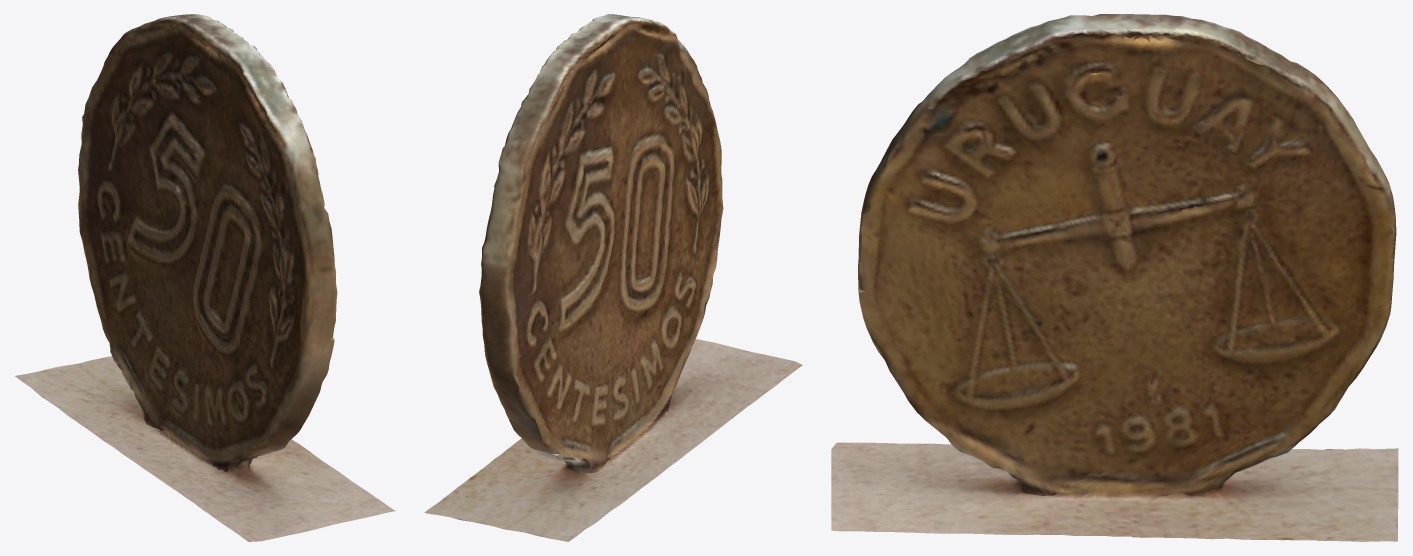
File: moneda_uruguay_1981_50_centesimos.glb
3 views of the same model, side by side, from view 1: azimuth 30°, elevation 25°; view 2: azimuth 150°, elevation 25°; view 3: azimuth 270°, elevation 25° (orthographic). The views are drawn at different scales.
Parts seen in each view (by area): view 1: Object_2; view 2: Object_2; view 3: Object_2.
Boxes of the visible parts, x1,y1,x2,y2 form: Object_2: (15,14,395,541); Object_2: (424,14,802,541); Object_2: (831,14,1398,541).
Size of the model in its own units: 0.0124 by 0.0335 by 0.035.
Materials: 1 (1 with a texture image).
